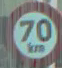Speed limit: (7, 1, 54, 57)
